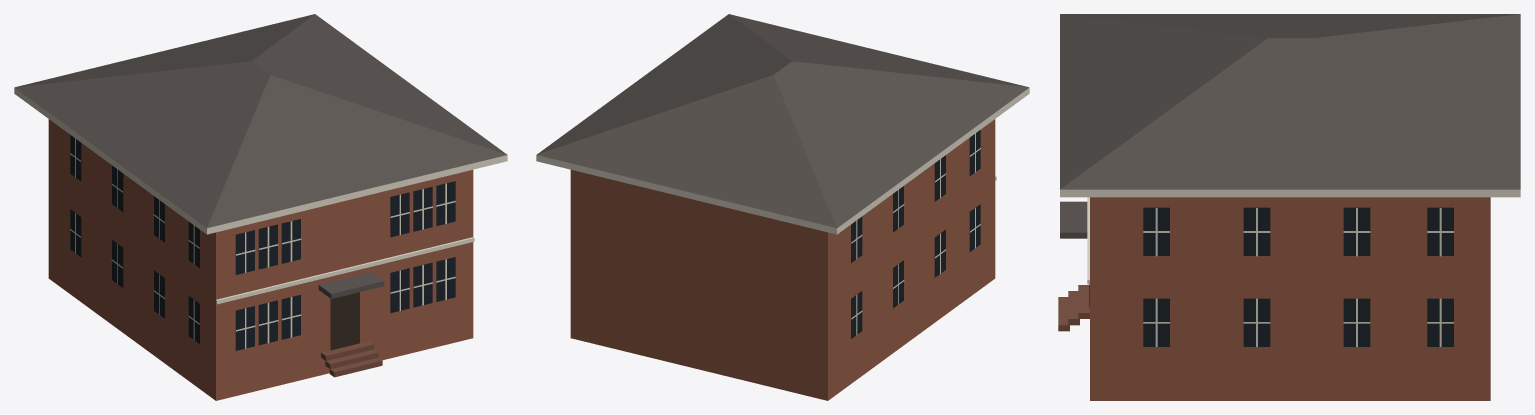
The model's file is beverly-apartments.glb.
3 views of the same model, side by side, from view 1: azimuth 30°, elevation 25°; view 2: azimuth 150°, elevation 25°; view 3: azimuth 270°, elevation 25° (orthographic). The views are drawn at different scales.
Parts seen in each view (by area): view 1: beverly_roof, beverly_brick, beverly_glass, beverly_trim, beverly_sash, beverly_door, beverly_base; view 2: beverly_brick, beverly_roof, beverly_glass, beverly_trim, beverly_sash; view 3: beverly_roof, beverly_brick, beverly_glass, beverly_trim, beverly_sash, beverly_base.
Boxes of the visible parts, box(x1,y1,x2,y2) form: beverly_roof: box(14, 14, 507, 298); beverly_brick: box(48, 119, 473, 400); beverly_glass: box(70, 135, 455, 350); beverly_trim: box(14, 87, 507, 304); beverly_sash: box(70, 138, 455, 348); beverly_door: box(330, 292, 359, 350); beverly_base: box(321, 341, 382, 377); beverly_brick: box(570, 119, 995, 400); beverly_roof: box(536, 14, 1029, 228); beverly_glass: box(851, 130, 980, 338); beverly_trim: box(536, 87, 1029, 234); beverly_sash: box(851, 133, 980, 335); beverly_roof: box(1060, 14, 1520, 238); beverly_brick: box(1090, 197, 1490, 400); beverly_glass: box(1143, 207, 1453, 346); beverly_trim: box(1060, 189, 1520, 284); beverly_sash: box(1143, 208, 1453, 346); beverly_base: box(1058, 285, 1089, 331).
Size of the model in its own units: 12.45 by 9.5 by 13.85.
